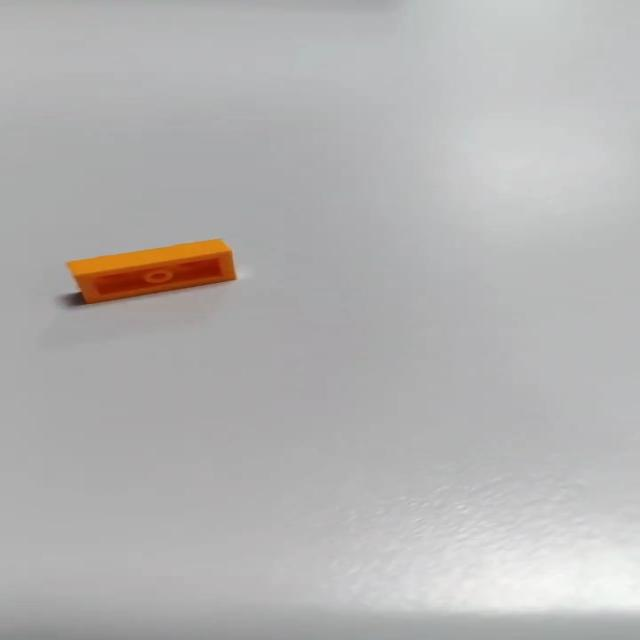C2x1x0: (61, 236, 241, 306)
